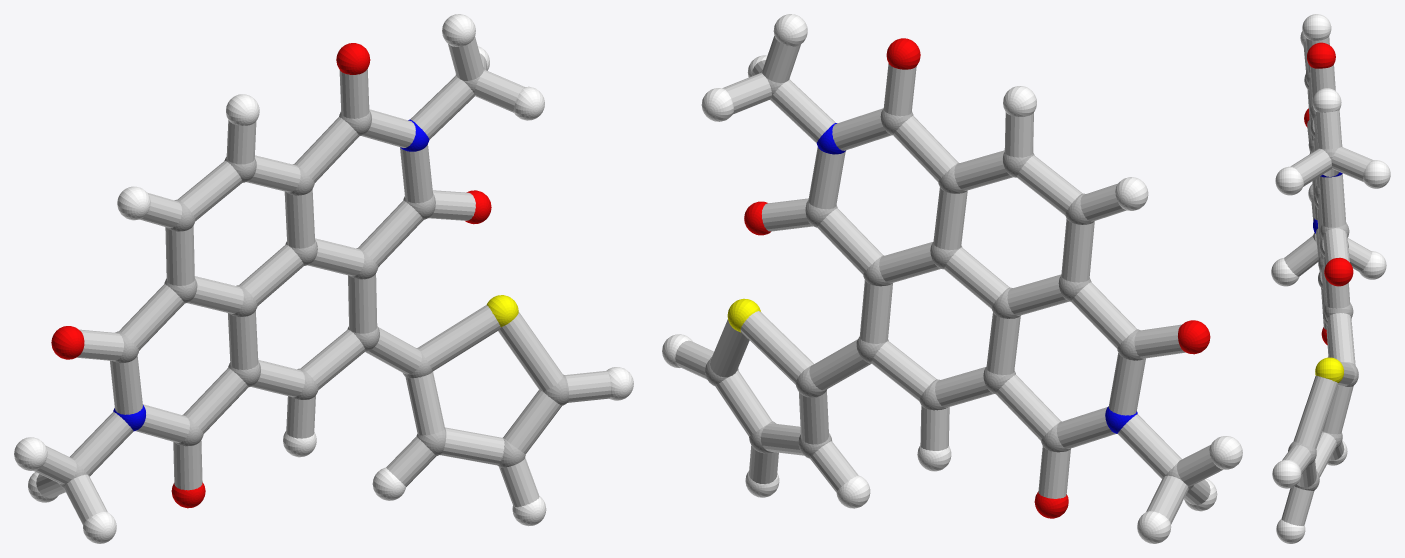
Rendered from color.glb.
3 views of the same model, side by side, from view 1: azimuth 30°, elevation 25°; view 2: azimuth 150°, elevation 25°; view 3: azimuth 270°, elevation 25° (orthographic). The views are drawn at different scales.
Visible parts, largest first — view 1: grp14119, grp7241, grp1, grp12309, grp11585; view 2: grp14119, grp7241, grp1, grp12309, grp11585; view 3: grp14119, grp7241, grp1, grp12309, grp13757.
Boxes of the visible parts, x1,y1,x2,y2 form: grp14119: (33,37,610,524); grp7241: (14,14,633,543); grp1: (58,67,568,488); grp12309: (51,43,491,508); grp11585: (113,119,429,431); grp14119: (675,36,1222,524); grp7241: (662,14,1242,543); grp1: (705,70,1193,490); grp12309: (744,38,1210,518); grp11585: (816,123,1137,433); grp14119: (1281,36,1373,525); grp7241: (1271,14,1390,543); grp1: (1288,69,1358,490); grp12309: (1304,42,1353,345); grp13757: (1315,357,1343,382).
Bounding box in the file's own units: 12.13 × 9.87 × 2.47.
